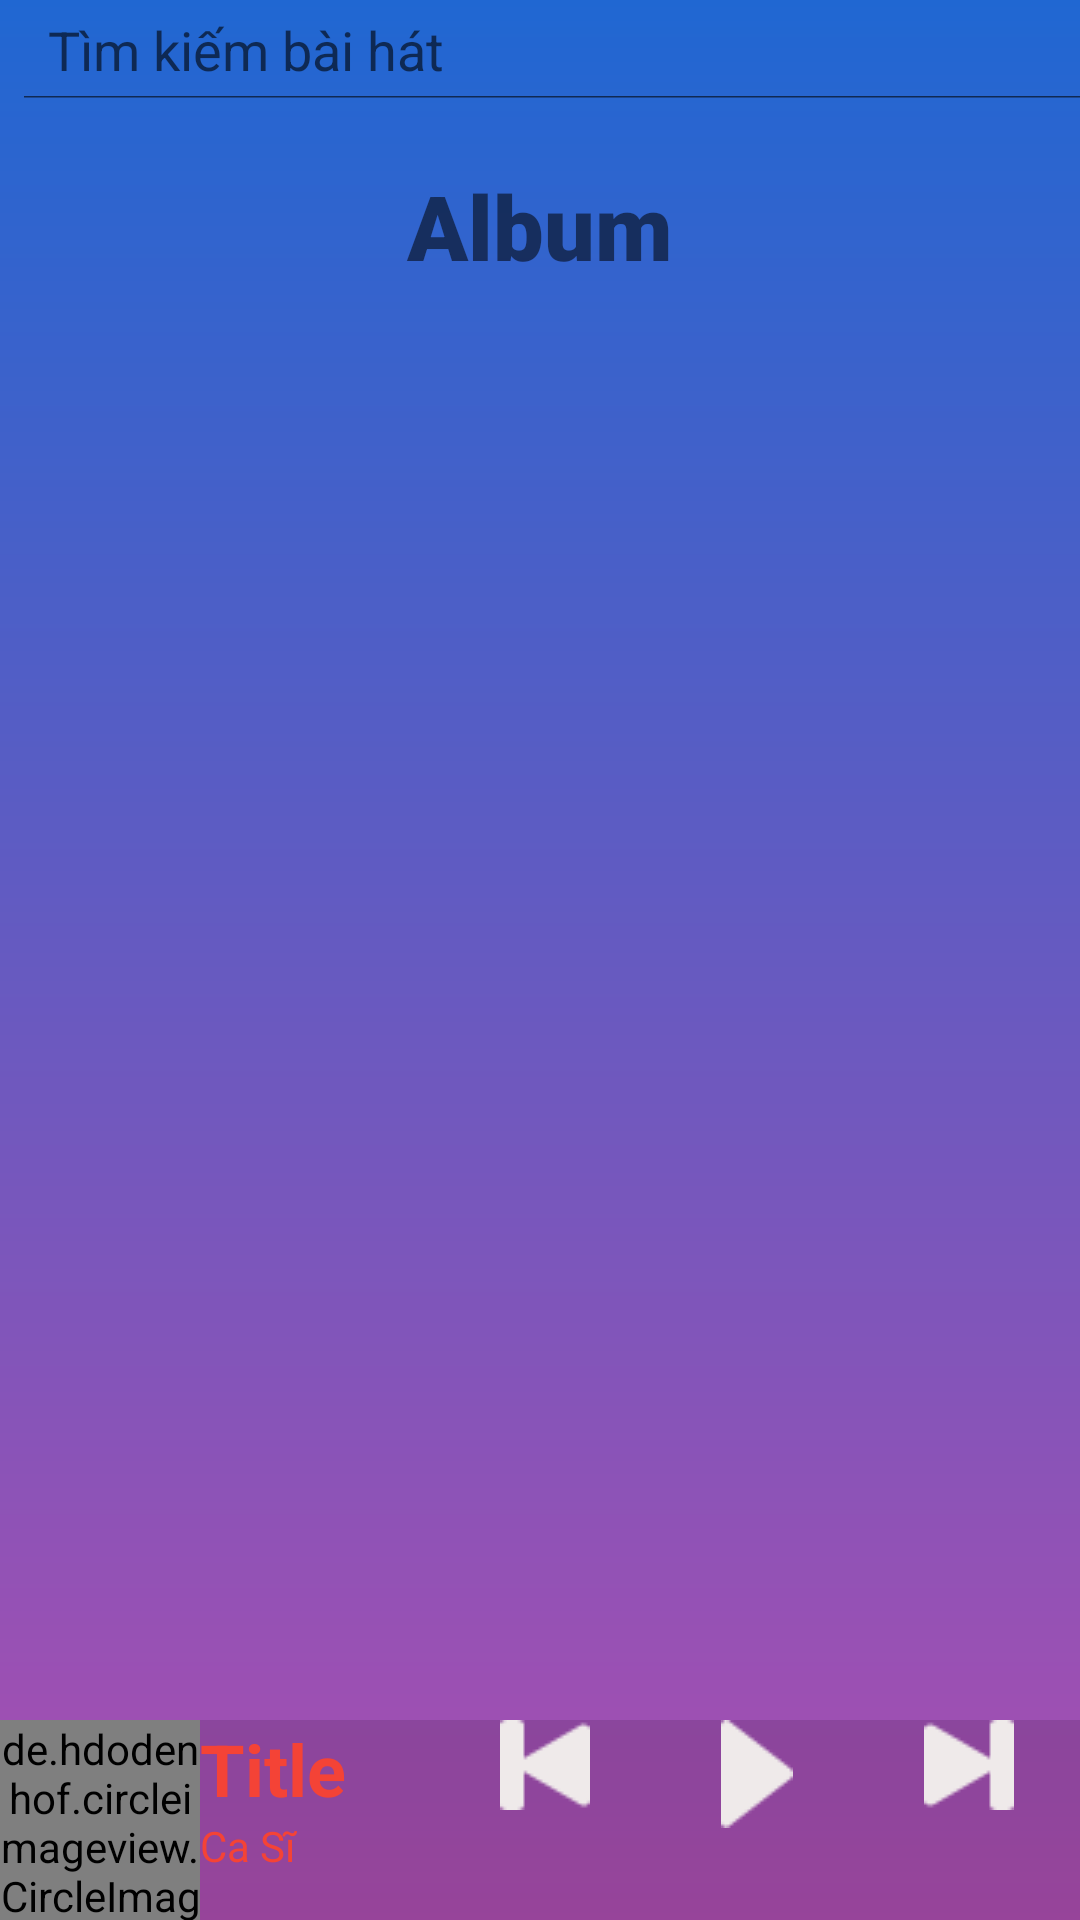

Where to tap for icons on this 1080px x 1920px app screen, as point (x, y):
next: point (969, 1765)
play: point (757, 1774)
pre: point (545, 1765)
